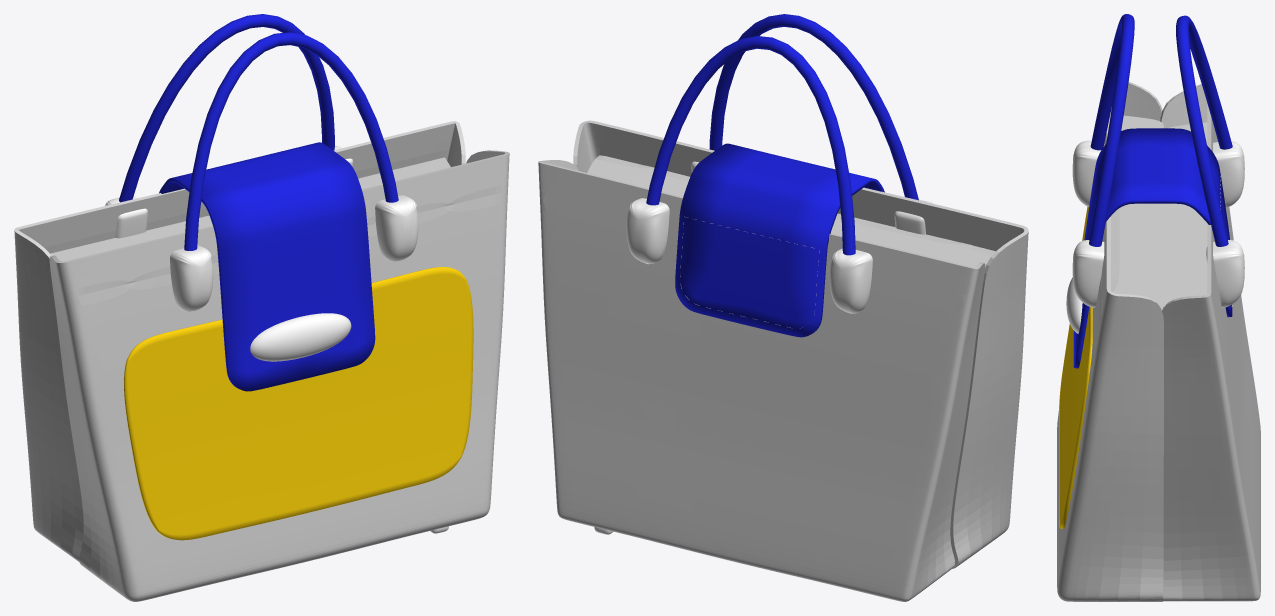
The model's file is bjak_bag.glb.
3 renders of one model, left to right at view 1: azimuth 30°, elevation 25°; view 2: azimuth 150°, elevation 25°; view 3: azimuth 270°, elevation 25°, orthographic.
Visible parts, largest first — view 1: Cube, Cube.001, Plane.001, BezierCurve, BezierCurve.001, Cube.003, Cube.005, Cube.004; view 2: Cube, Plane.001, BezierCurve.001, BezierCurve, Cube.004, Cube.003; view 3: Cube, Plane.001, BezierCurve.001, BezierCurve, Cube.001, Cube.004, Cube.003, Cube.005.
Boxes of the visible parts, <box> form: Cube: <box>14,121,509,601</box>; Cube.001: <box>124,267,473,540</box>; Plane.001: <box>159,142,375,391</box>; BezierCurve: <box>184,32,398,250</box>; BezierCurve.001: <box>119,14,334,202</box>; Cube.003: <box>170,195,418,311</box>; Cube.005: <box>250,313,351,361</box>; Cube.004: <box>105,145,353,238</box>; Cube: <box>538,120,1028,601</box>; Plane.001: <box>675,143,884,337</box>; BezierCurve.001: <box>646,36,855,255</box>; BezierCurve: <box>709,14,918,200</box>; Cube.004: <box>626,198,872,313</box>; Cube.003: <box>691,148,932,234</box>; Cube: <box>1057,82,1260,601</box>; Plane.001: <box>1073,128,1232,368</box>; BezierCurve.001: <box>1176,15,1232,246</box>; BezierCurve: <box>1089,14,1134,246</box>; Cube.001: <box>1059,206,1092,529</box>; Cube.004: <box>1206,141,1244,307</box>; Cube.003: <box>1072,140,1104,307</box>; Cube.005: <box>1066,277,1082,333</box>.
Size of the model in its own units: 2.41 by 2.63 by 0.9508.
